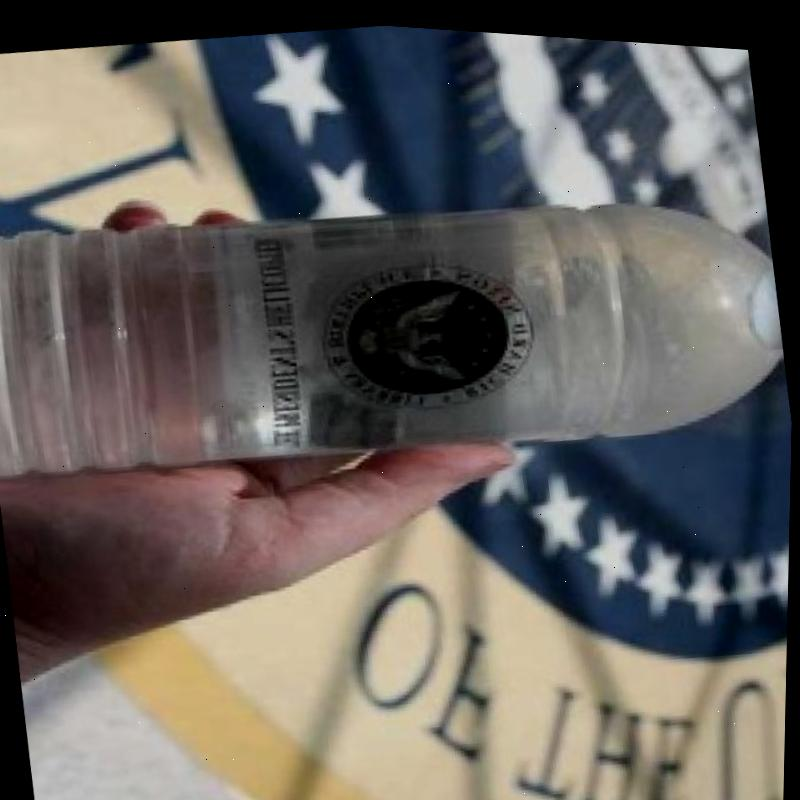botella: (0, 122, 798, 527)
